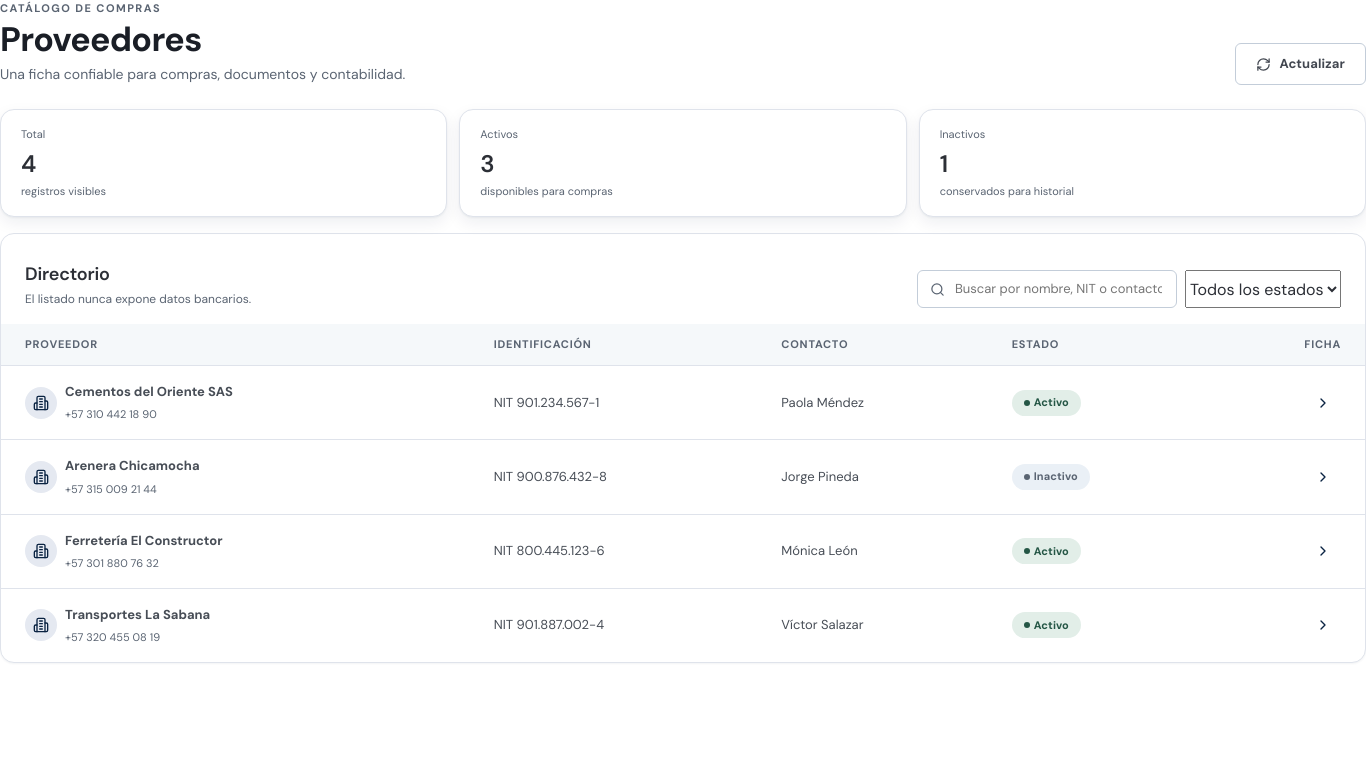
Test: SuppliersScreen › hides bank details and editing controls when the API gates Admin Mizar
Expected: the text "Cementos del Oriente SAS" is shown, [65, 383, 233, 400]
Click the button named "Abrir ficha de Cementos".
click(1323, 403)  # box [1305, 385, 1341, 421]
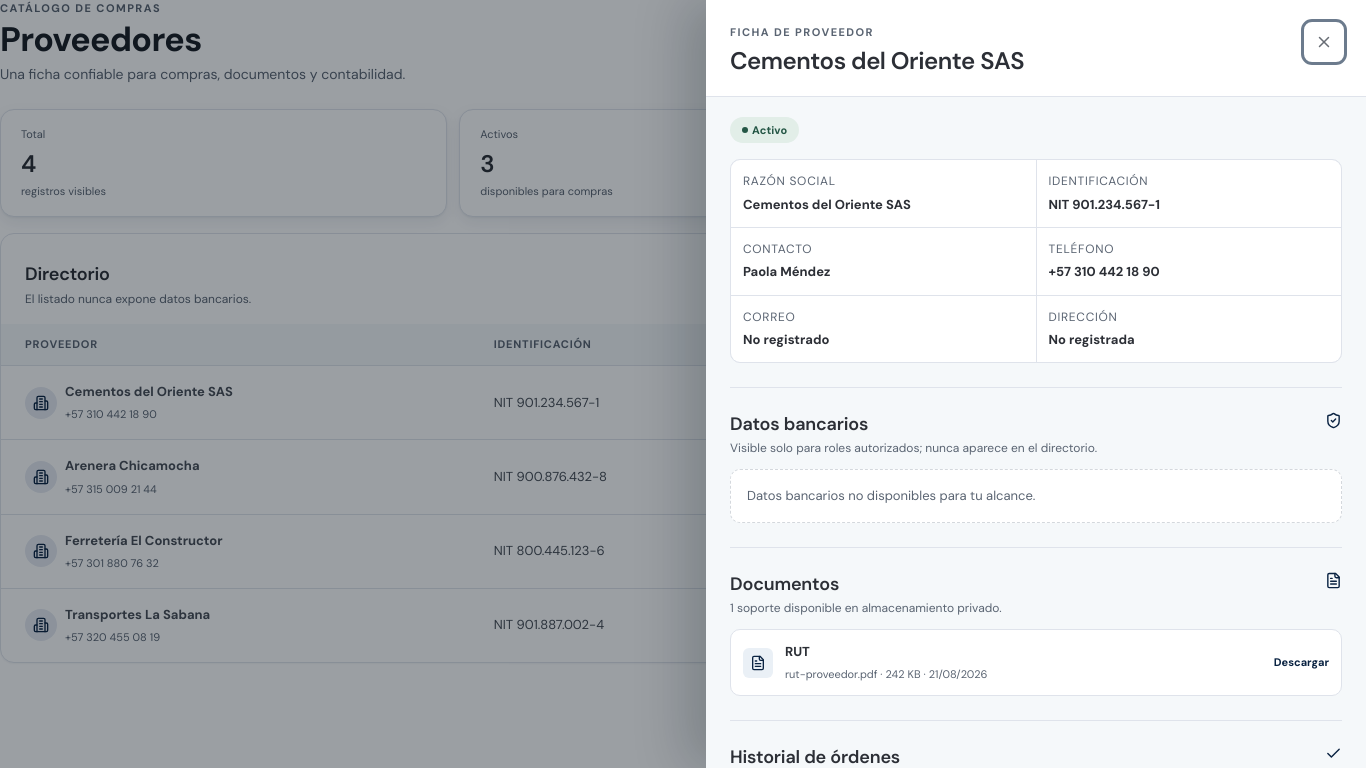
Expected: the dialog "Cementos del Oriente" is shown, [706, 0, 1365, 767]
Expected: the text "Datos bancarios no disponibles para tu alcance." is shown, [730, 469, 1342, 523]
